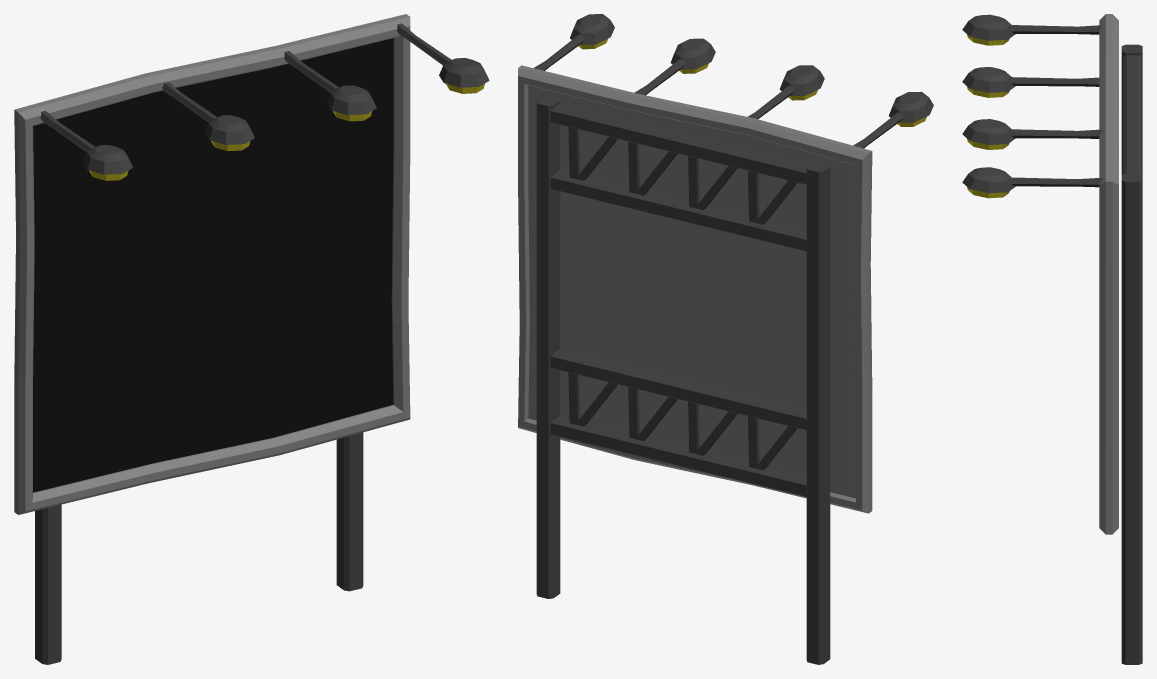
Rendered from SM_screen_03.fbx.
3 views of the same model, side by side, from view 1: azimuth 30°, elevation 25°; view 2: azimuth 150°, elevation 25°; view 3: azimuth 270°, elevation 25° (orthographic). The views are drawn at different scales.
Parts seen in each view (by area): view 1: Box151; view 2: Box151; view 3: Box151.
Part boxes in pixels (x1=…): Box151: x1=14, y1=14, x2=489, y2=664; Box151: x1=518, y1=14, x2=933, y2=664; Box151: x1=962, y1=14, x2=1142, y2=664.
Bounding box in the file's own units: 159 × 219 × 71.13.
